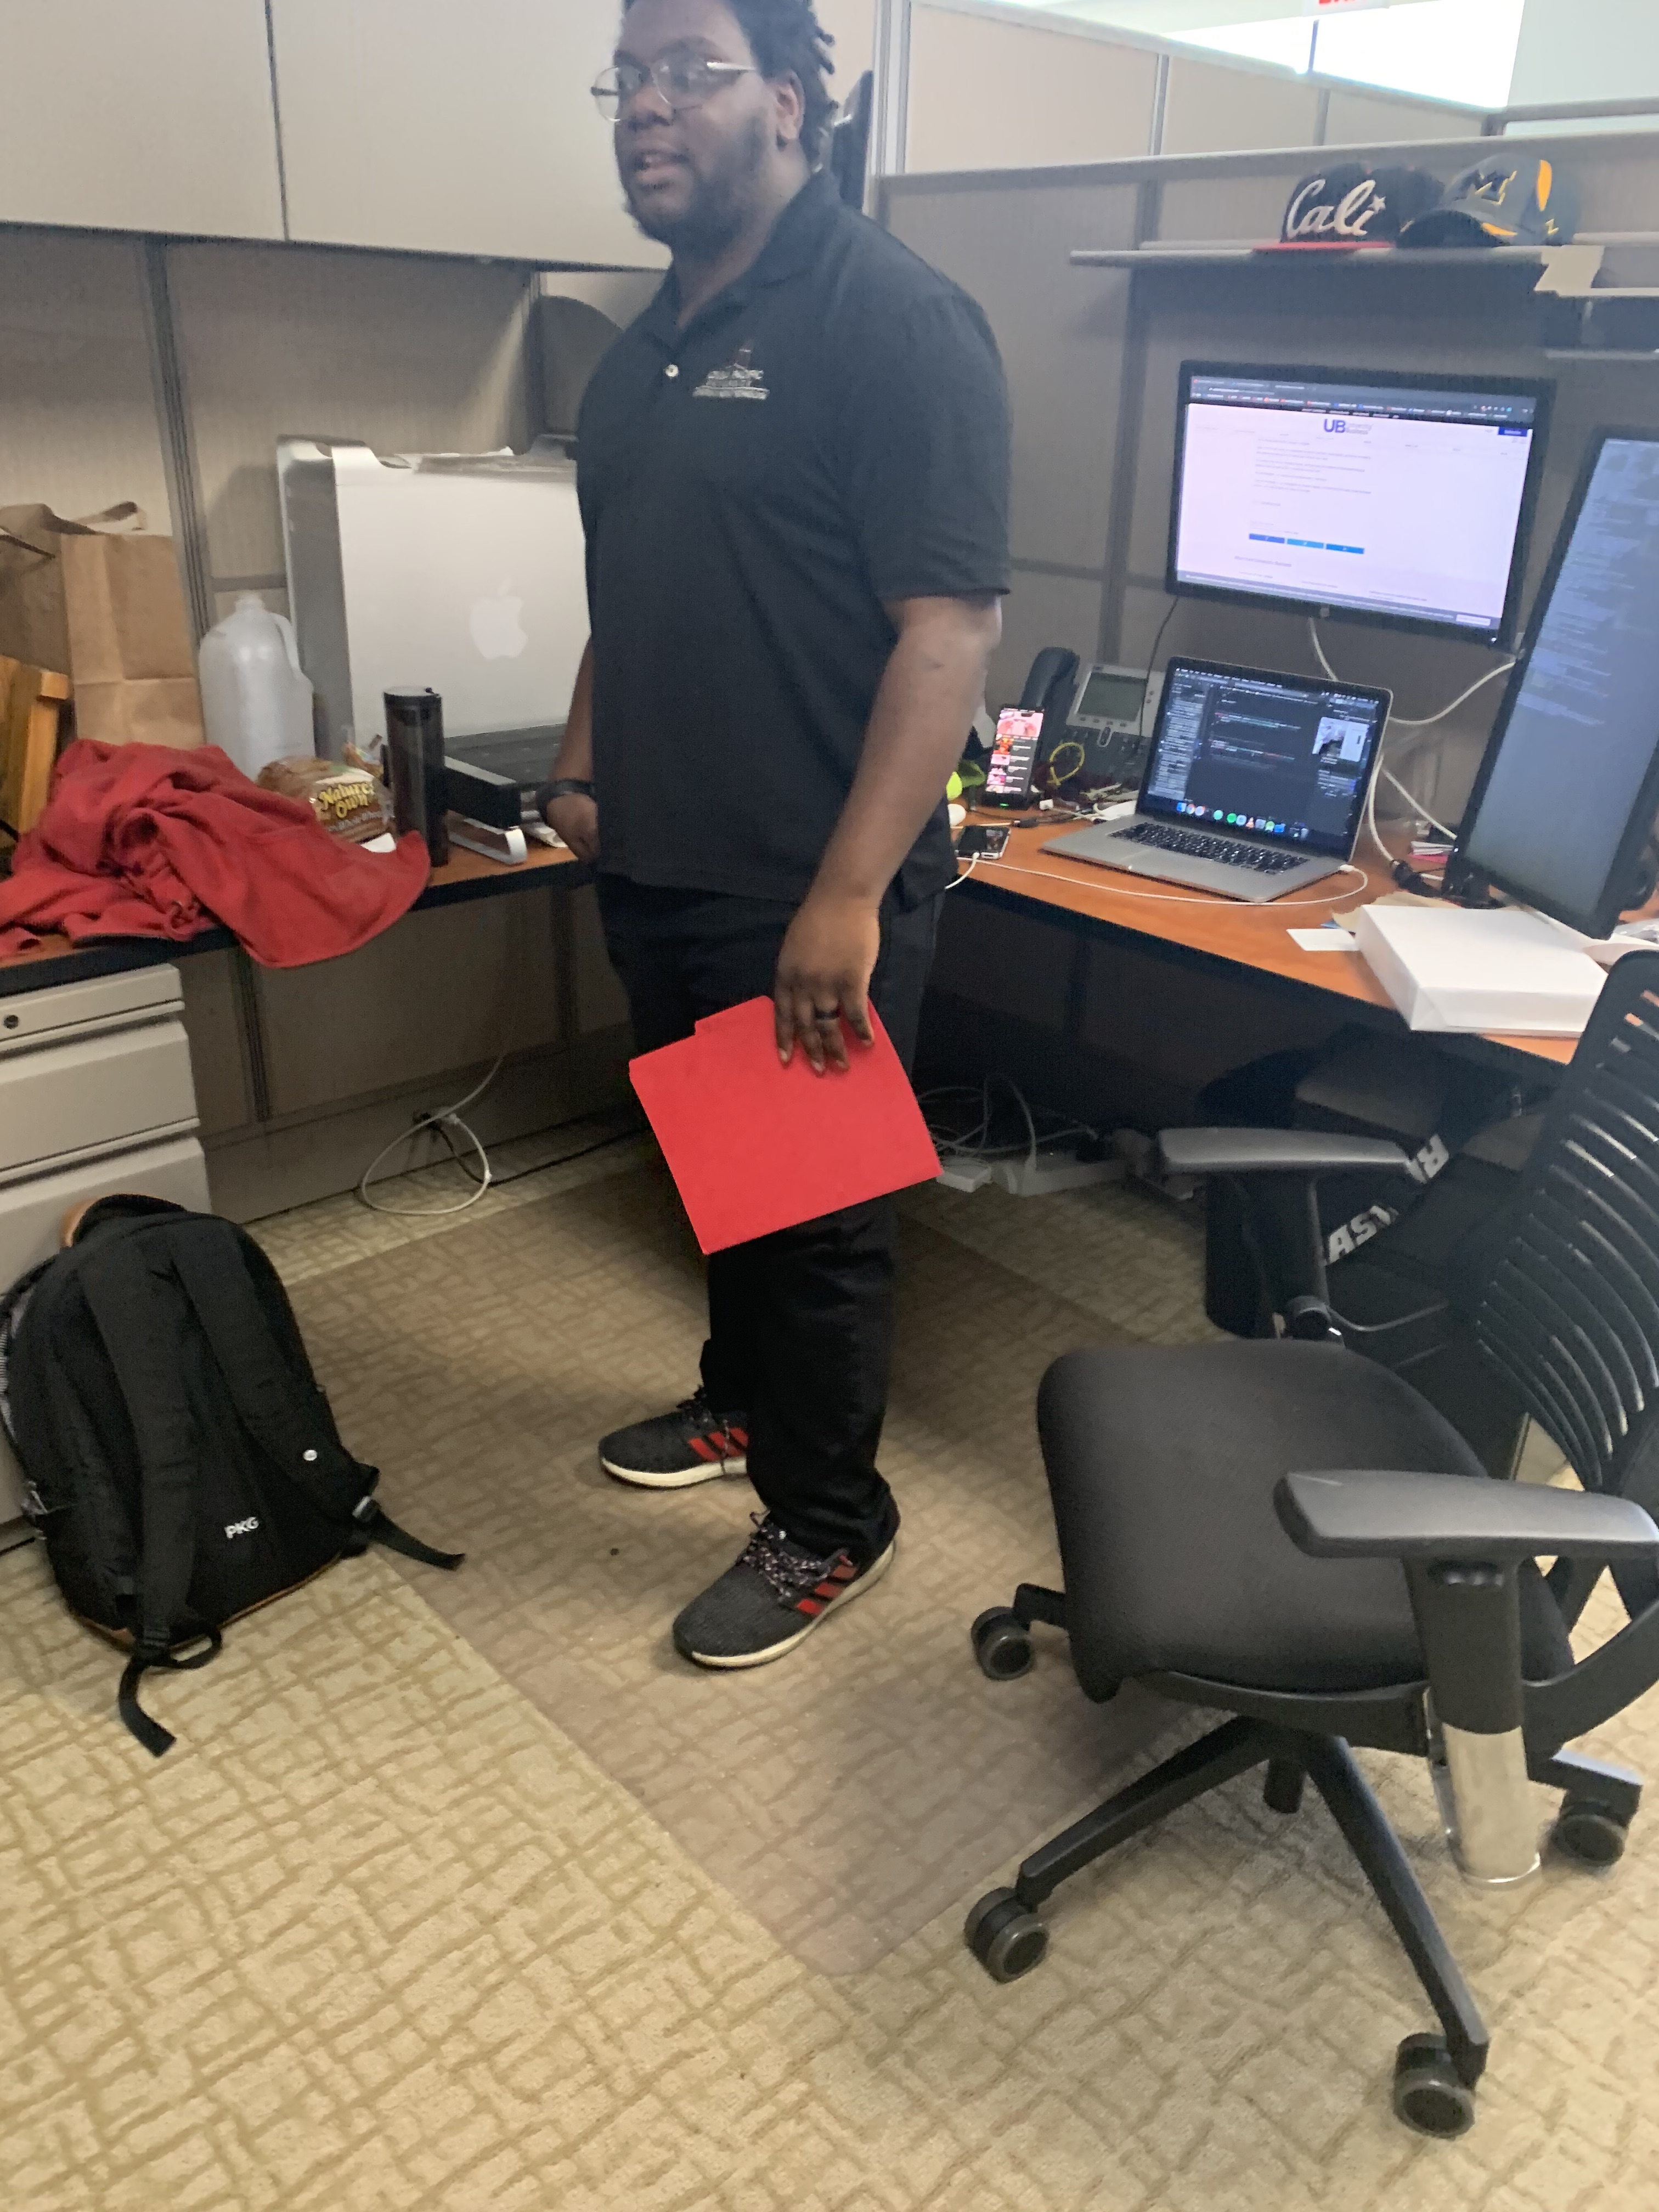red folder: (587, 981, 1007, 1264)
